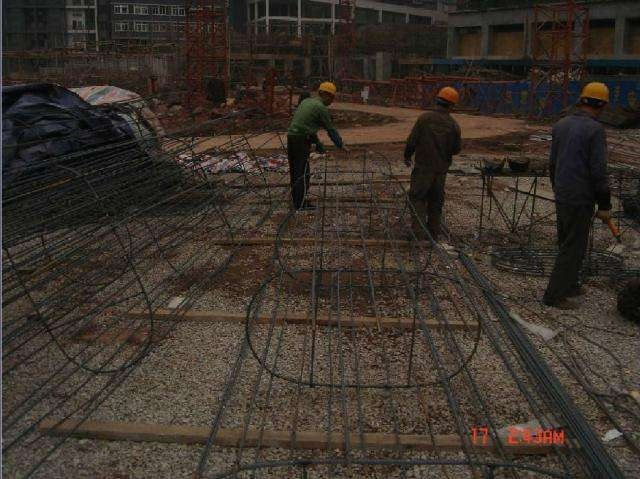yellow: (575, 79, 611, 121), (432, 84, 459, 115), (315, 79, 337, 106)
